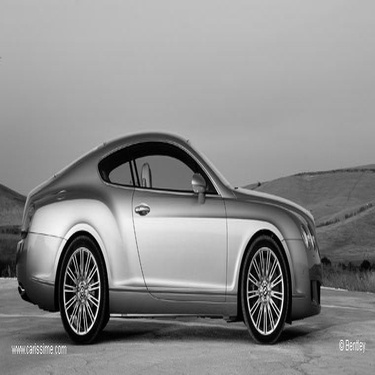car: (9, 119, 328, 349)
